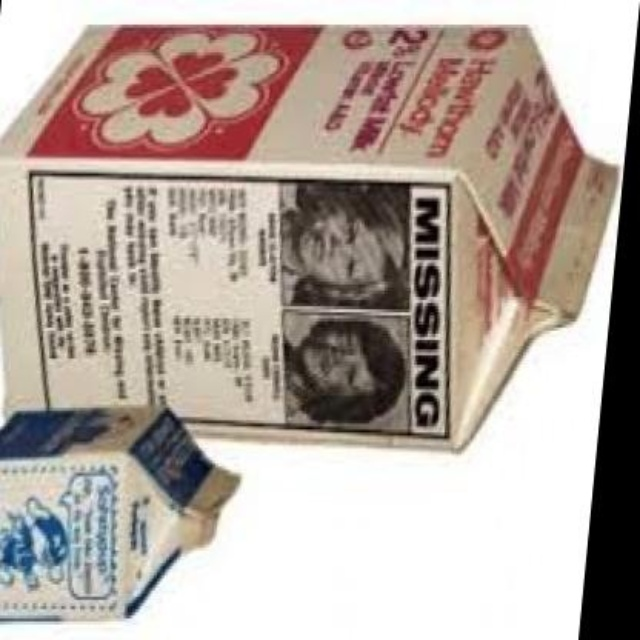trash: (0, 26, 615, 446), (0, 406, 238, 618)
